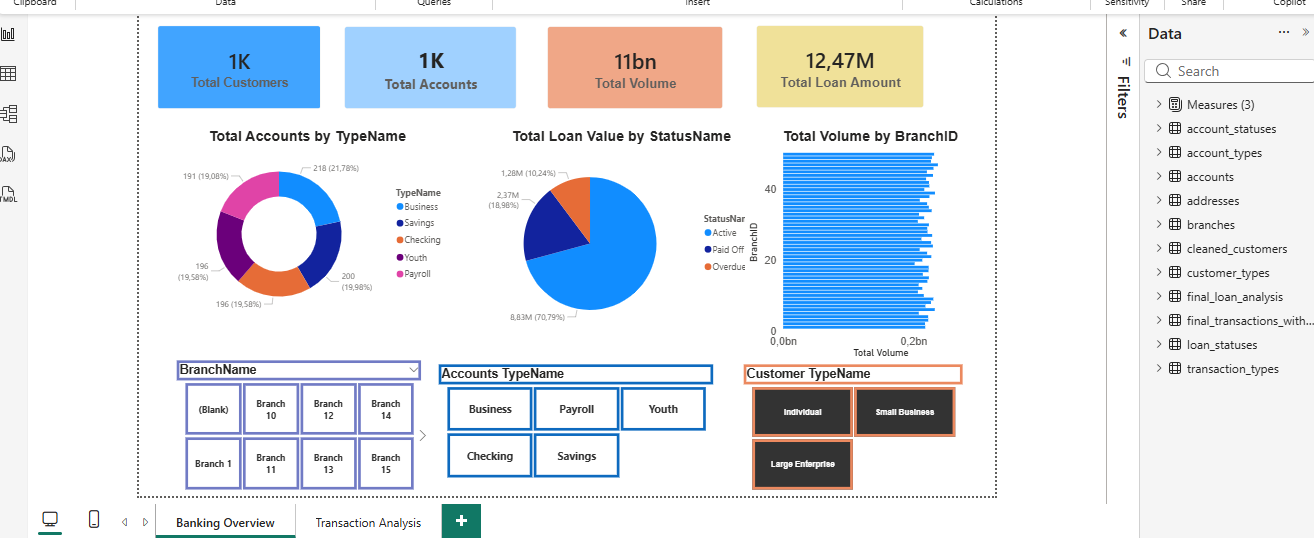

The page's visual inventory and layout, read from the dashboard file:
{"tool":"powerbi","page":{"name":"Banking Overview","canvas":[1280,720],"ordinal":0},"visuals":[{"type":"cardVisual","fields":{"Data":["Measures (3).Total Customers"]},"box":[10.7,0,278.9,159.1],"z":0},{"type":"cardVisual","fields":{"Data":["Measures (3).Total Accounts"]},"box":[289.6,1.8,291.4,157.3],"z":1000},{"type":"cardVisual","fields":{"Data":["Measures (3).Total Volume"]},"box":[593.5,1.8,296.8,157.3],"z":2000},{"type":"cardVisual","fields":{"Data":["Measures (3).Total Loan Amount"]},"box":[904.6,0,284.2,157.3],"z":3000},{"type":"donutChart","fields":{"Category":["account_types.TypeName"],"Y":["Measures (3).Total Accounts"]},"box":[29.9,170.3,443.7,292.8],"z":4000},{"type":"pieChart","fields":{"Category":["loan_statuses.StatusName"],"Y":["Measures (3).Total Loan Value"]},"box":[498.9,170.3,443.7,321.2],"z":5000},{"type":"barChart","fields":{"Category":["branches.BranchID"],"Y":["Measures (3).Total Volume"]},"box":[905.2,170.3,374.9,348],"z":6000},{"type":"slicer","fields":{"Values":["branches.BranchName"]},"box":[43.3,512.4,391.4,204.6],"z":6001},{"type":"slicer","fields":{"Values":["account_types.TypeName"]},"box":[434.7,518.3,436.2,180.7],"z":6002},{"type":"slicer","fields":{"Values":["customer_types.TypeName"]},"box":[890.3,518.3,352.5,198.7],"z":6003}]}

Visuals, with their boxes on the page's 1280x720 design canvas (x1, y1, x2, y2). These are canvas units, not pixel positions in the 1314x538 screenshot, which may show the page scaled, cropped or inside an application window:
cardVisual - Measures (3).Total Customers: [11,0,290,159]
cardVisual - Measures (3).Total Accounts: [290,2,581,159]
cardVisual - Measures (3).Total Volume: [594,2,890,159]
cardVisual - Measures (3).Total Loan Amount: [905,0,1189,157]
donutChart - account_types.TypeName x Measures (3).Total Accounts: [30,170,474,463]
pieChart - loan_statuses.StatusName x Measures (3).Total Loan Value: [499,170,943,492]
barChart - branches.BranchID x Measures (3).Total Volume: [905,170,1280,518]
slicer - branches.BranchName: [43,512,435,717]
slicer - account_types.TypeName: [435,518,871,699]
slicer - customer_types.TypeName: [890,518,1243,717]
